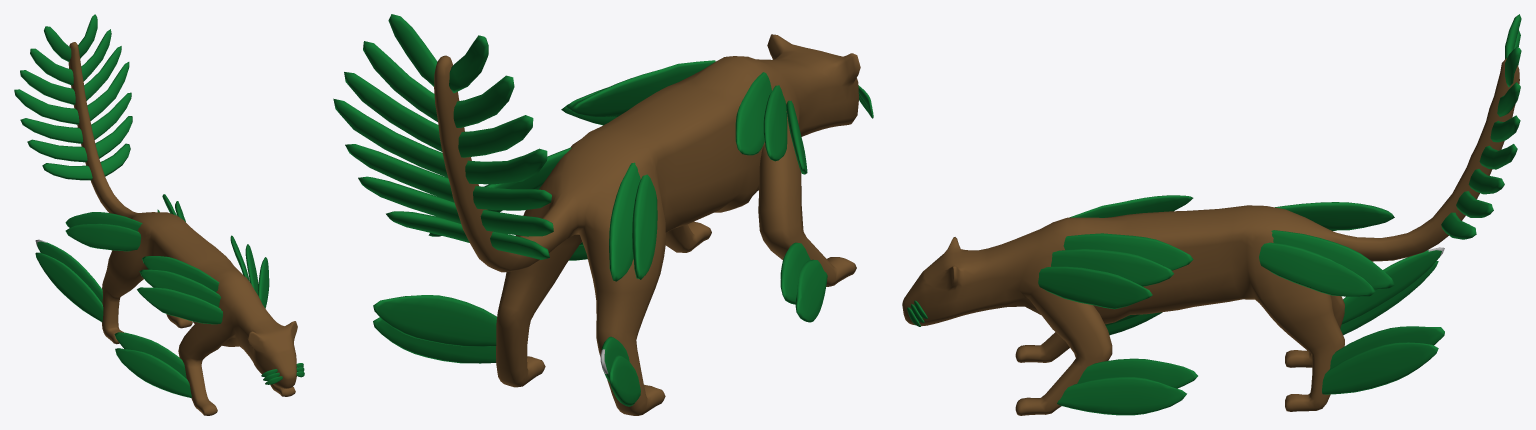
The model's file is C1_figurine_model.fbx.
The picture shows the model from 3 angles, left to right: view 1: azimuth 30°, elevation 25°; view 2: azimuth 150°, elevation 25°; view 3: azimuth 270°, elevation 25°; orthographic projection. The views are drawn at different scales.
Visible parts, largest first — view 1: C1_figurine_model; view 2: C1_figurine_model; view 3: C1_figurine_model.
Boxes of the visible parts, <box> form: C1_figurine_model: <box>14,14,304,415</box>; C1_figurine_model: <box>333,14,873,415</box>; C1_figurine_model: <box>902,14,1521,415</box>.
Bounding box in the file's own units: 48.3 × 78.76 × 124.
